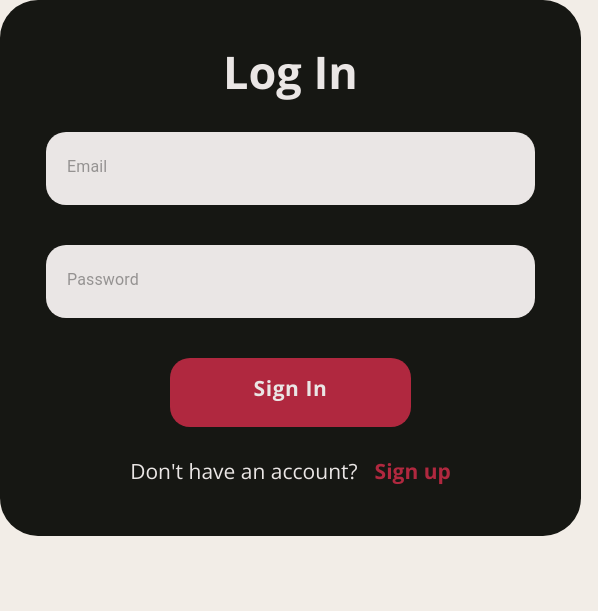
LogInForm › should display error message on failed login
Type "test@mail.com" into the field with placeholder "Email" at x=292, y=167, box top-left (67, 151), bottom-right (516, 183)
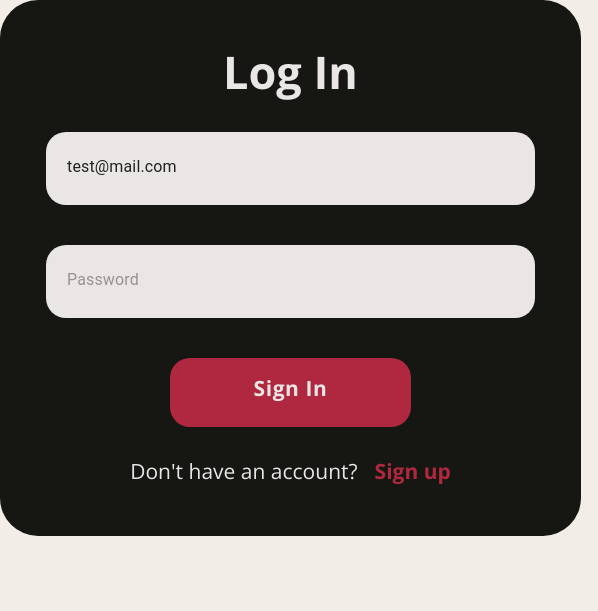
Type "wrongpass" into the password field with placeholder "Password" at x=292, y=280, box top-left (67, 264), bottom-right (516, 296)
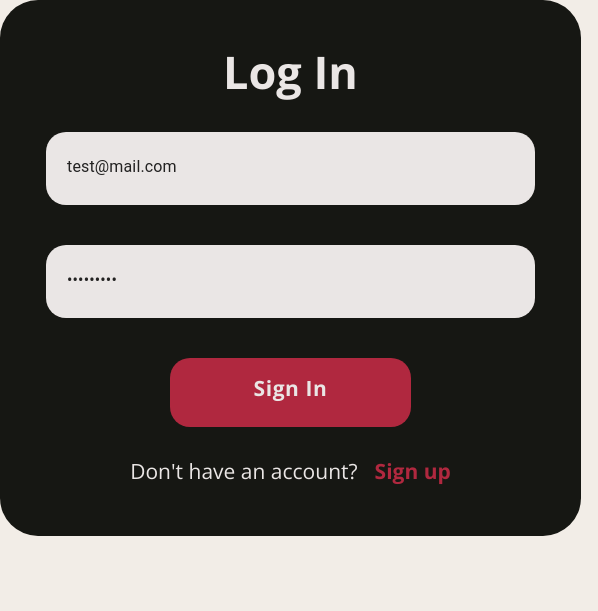
Click the button "Sign In" at x=291, y=392, box top-left (170, 358), bottom-right (411, 427)
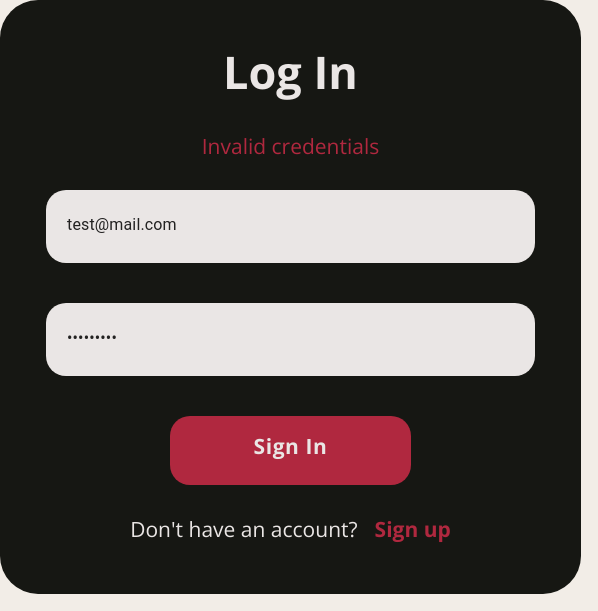
expect the heading "Invalid credentials" is shown: met, box top-left (202, 132), bottom-right (379, 160)
